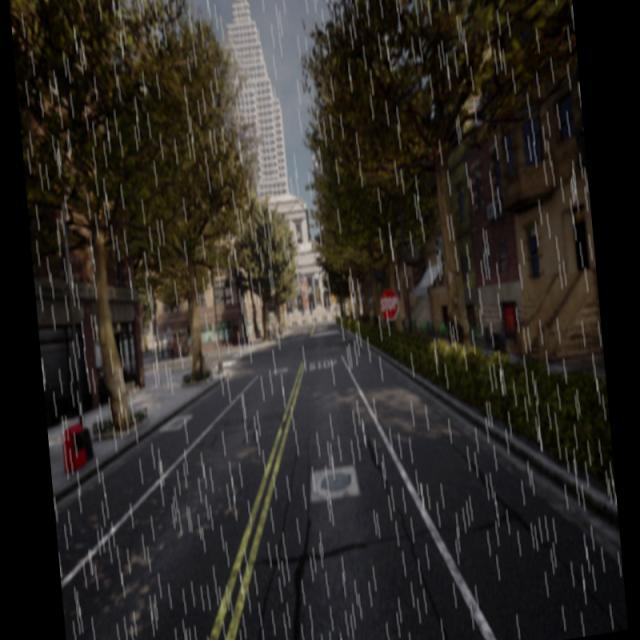stop sign: (378, 285, 400, 323)
